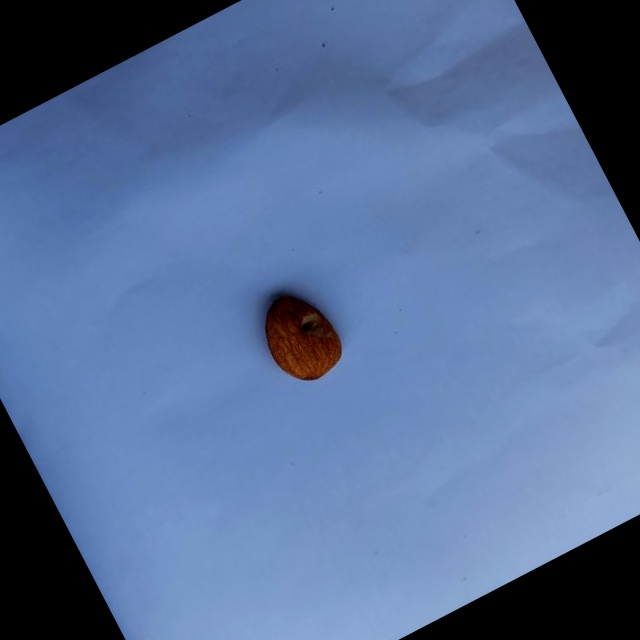grade3: (246, 275, 358, 397)
